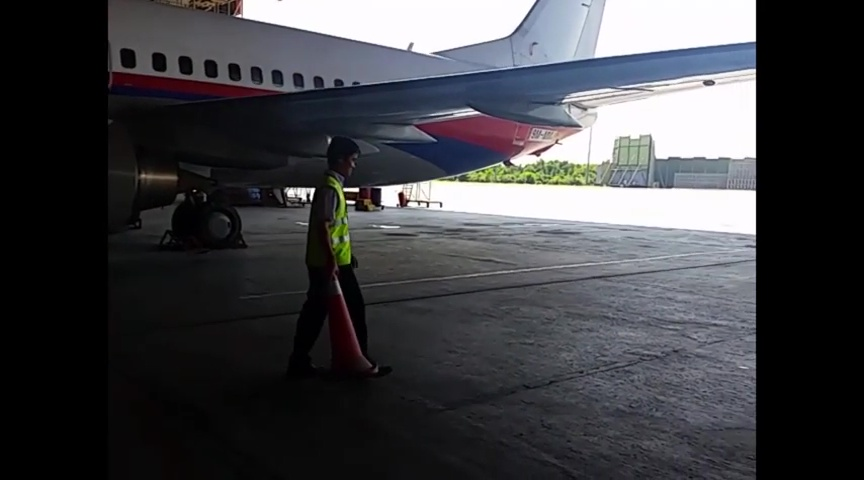safety_cone: (323, 272, 375, 377)
